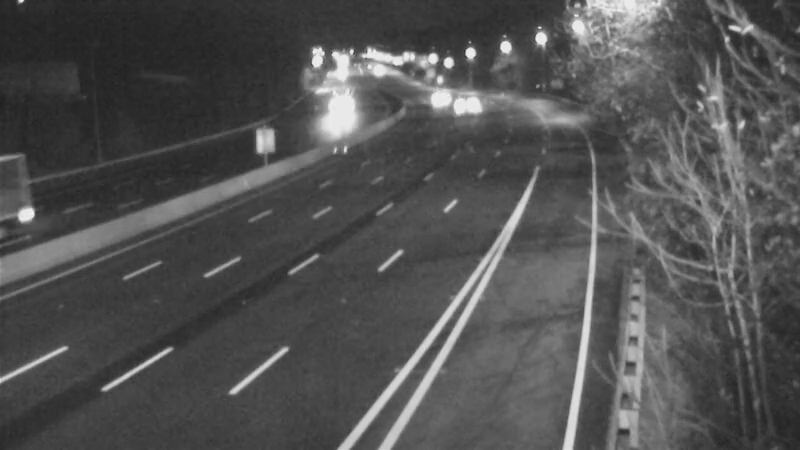vehicle: (411, 74, 461, 124), (440, 82, 490, 132), (312, 82, 362, 132)
